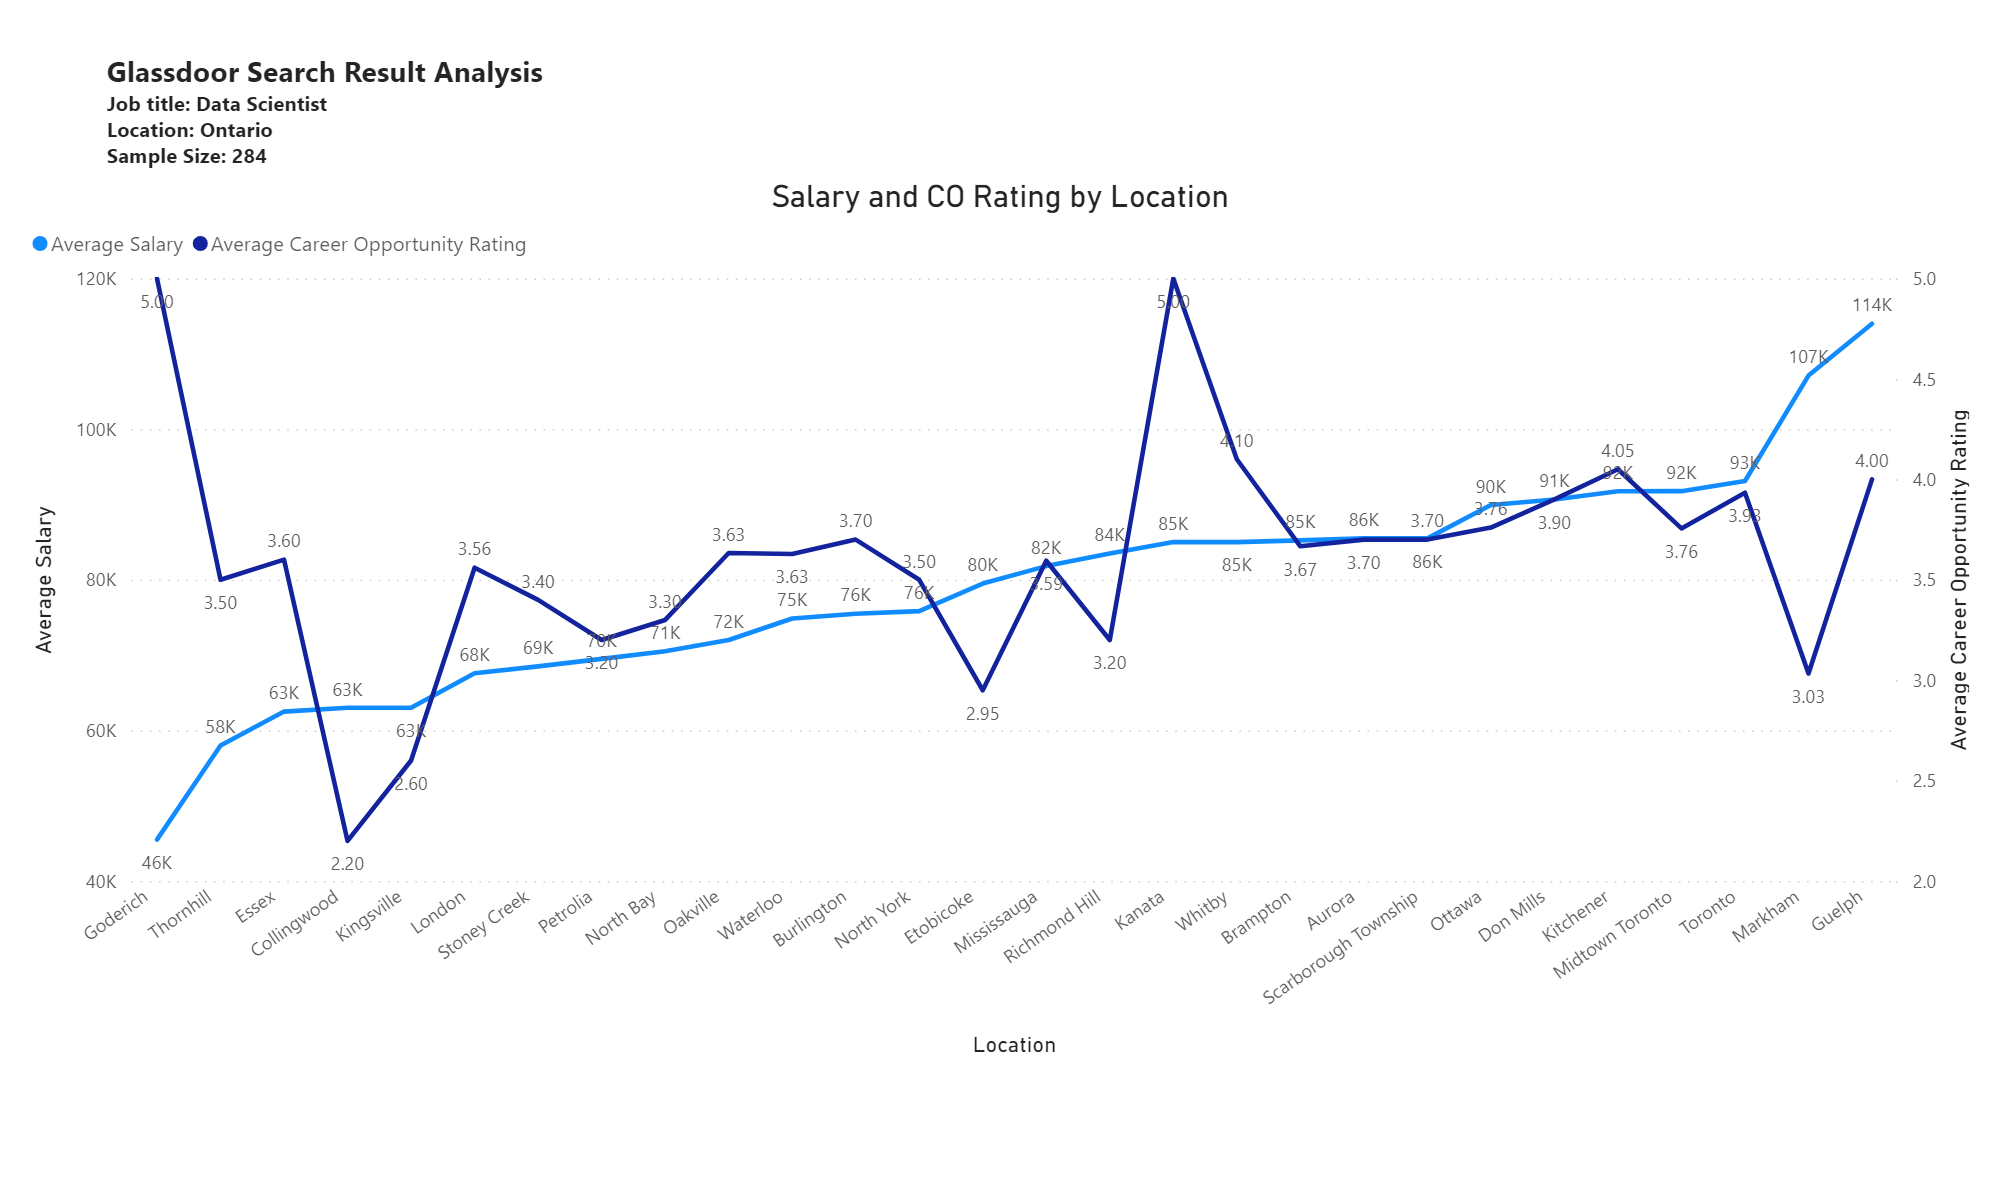

The page's visual inventory and layout, read from the dashboard file:
{"tool":"powerbi","page":{"name":"Locaiton","canvas":[1280,720],"ordinal":0},"visuals":[{"type":"lineChart","title":"Salary vs CO Rating (by Location)","fields":{"Category":["location average.Location"],"Y":["Sum(location average.Estimated Salary)"],"Y2":["Sum(location average.Career Opportunitie)"]},"box":[6.2,111,1274,579.7],"z":0},{"type":"textbox","box":[28.4,0,353.3,98.5],"z":1000}]}

Visuals, with their boxes on the page's 1280x720 design canvas (x1, y1, x2, y2). These are canvas units, not pixel positions in the 2000x1186 screenshot, which may show the page scaled, cropped or inside an application window:
"Salary vs CO Rating (by Location)" lineChart: l=6, t=111, r=1280, b=691
textbox: l=28, t=0, r=382, b=98
